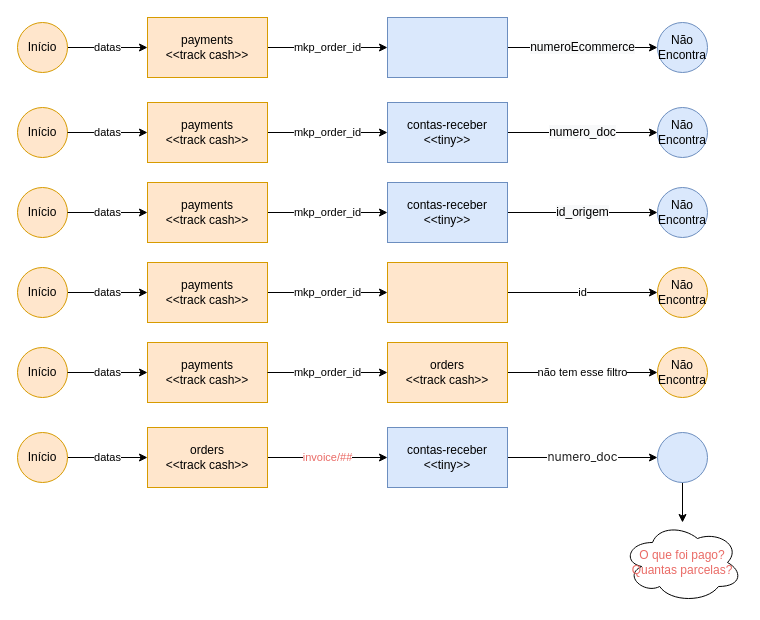
This 760x620 diagram has some shape labels left out. The box of each missing label's shape, as (x1, y1, x2, y2) in pixels:
Encontra: (656, 432, 708, 482)
order <<track cash>>: (386, 262, 508, 322)
pedidos <<tiny>>: (386, 16, 508, 78)
